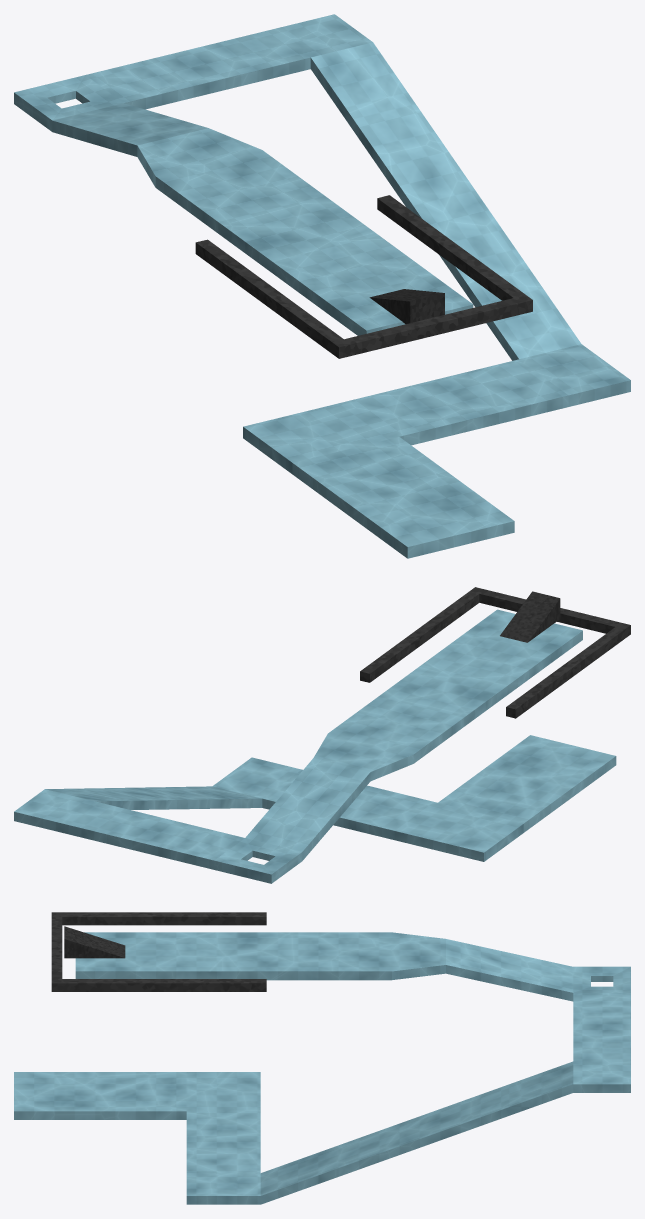
Rendered from track_3.glb.
The picture shows the model from 3 angles, top to bottom: view 1: azimuth 30°, elevation 25°; view 2: azimuth 150°, elevation 25°; view 3: azimuth 270°, elevation 25°; orthographic projection. The views are drawn at different scales.
Parts seen in each view (by area): view 1: Track, Rails, Ramp; view 2: Track, Rails, Ramp; view 3: Track, Rails, Ramp.
Part boxes in pixels (<box>): Track: <box>14,14,630,558</box>; Rails: <box>195,195,532,358</box>; Ramp: <box>369,289,444,323</box>; Track: <box>14,609,616,883</box>; Rails: <box>360,587,630,718</box>; Ramp: <box>500,591,560,642</box>; Track: <box>14,932,630,1204</box>; Rails: <box>51,912,266,991</box>; Ramp: <box>64,926,125,958</box>.
Size of the model in its own units: 10.72 by 6 by 20.
3 materials, 3 textured.
